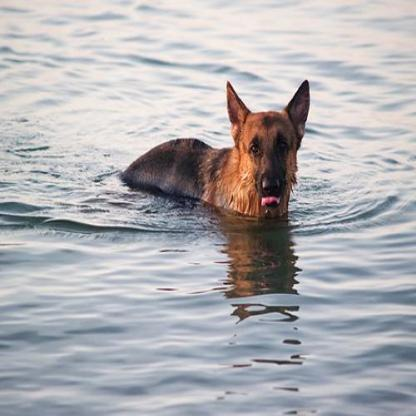German_shepherd: (117, 73, 310, 222)
